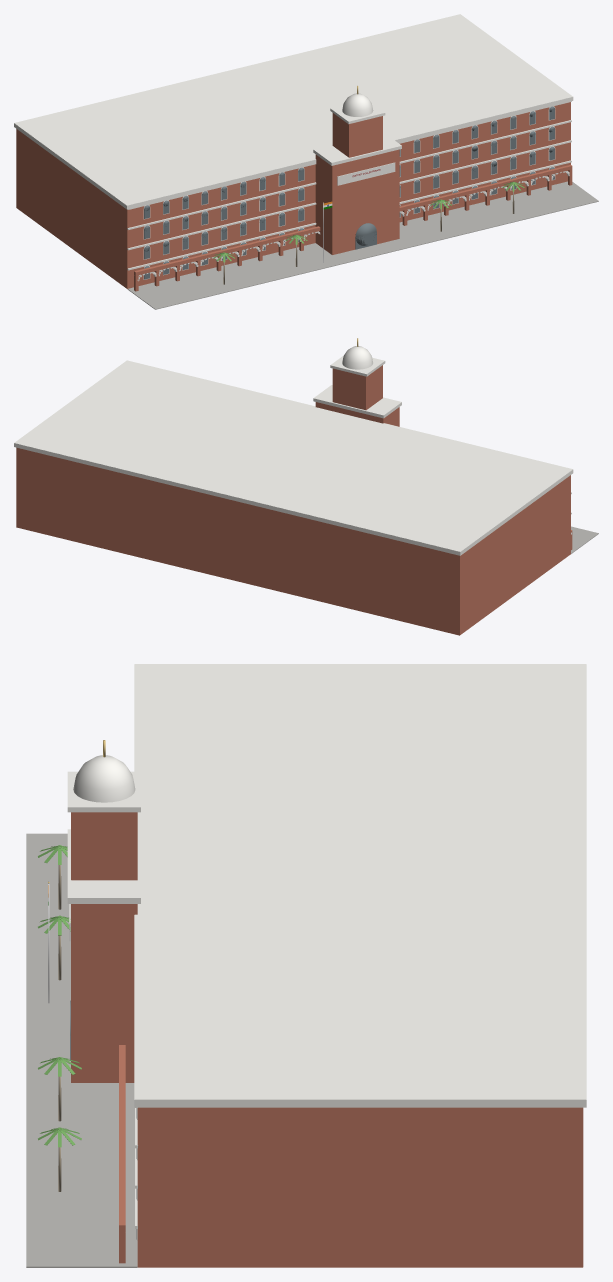
Rendered from collectorate_ao.glb.
The picture shows the model from 3 angles, top to bottom: view 1: azimuth 30°, elevation 25°; view 2: azimuth 150°, elevation 25°; view 3: azimuth 270°, elevation 25°; orthographic projection. The views are drawn at different scales.
Parts seen in each view (by area): view 1: collectorate; view 2: collectorate; view 3: collectorate.
Boxes of the visible parts, x1,y1,x2,y2 form: collectorate: (14,14,598,309); collectorate: (14,338,598,635); collectorate: (26,664,586,1267).
Bounding box in the file's own units: 92.6 × 30.8 × 50.3.
